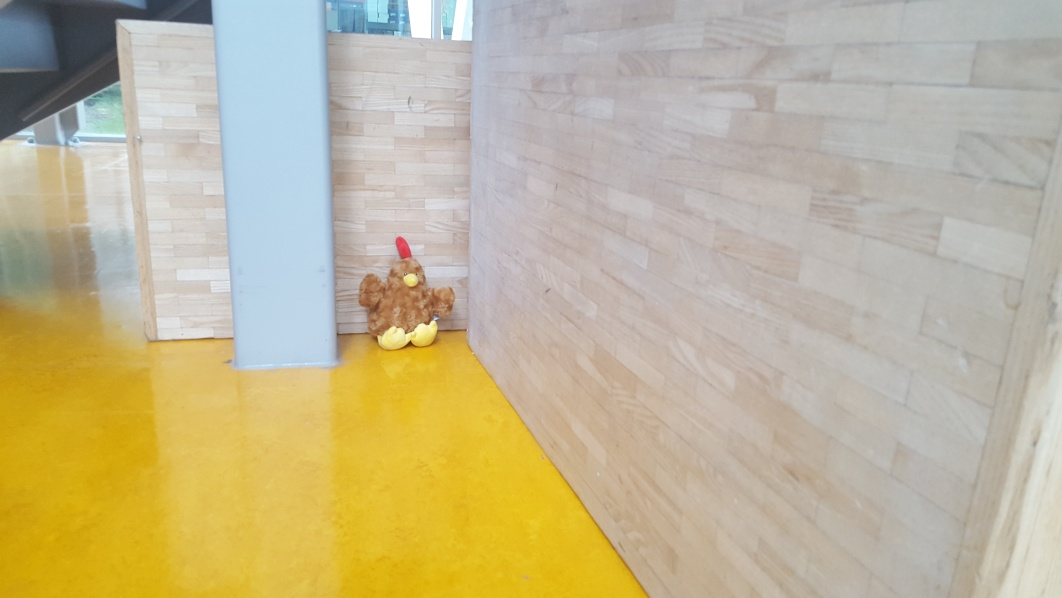chicken: (357, 236, 457, 349)
